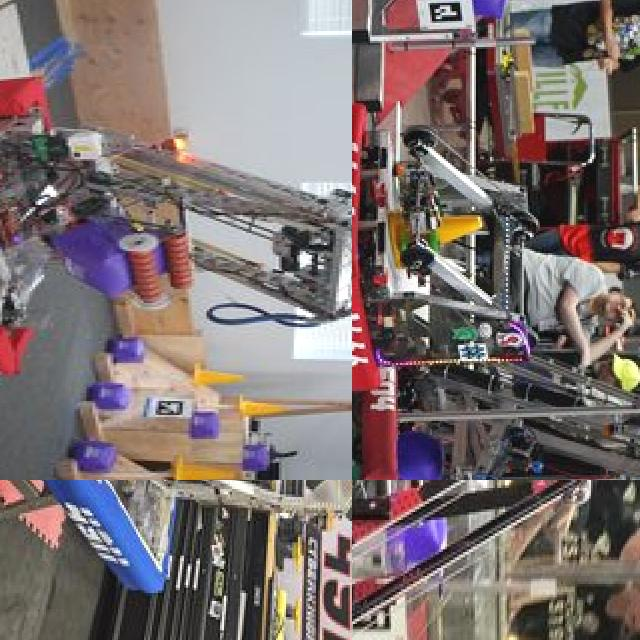FRC-Robots: (0, 43, 352, 425), (352, 103, 552, 422), (40, 480, 352, 626), (352, 480, 627, 640), (352, 360, 570, 480)
